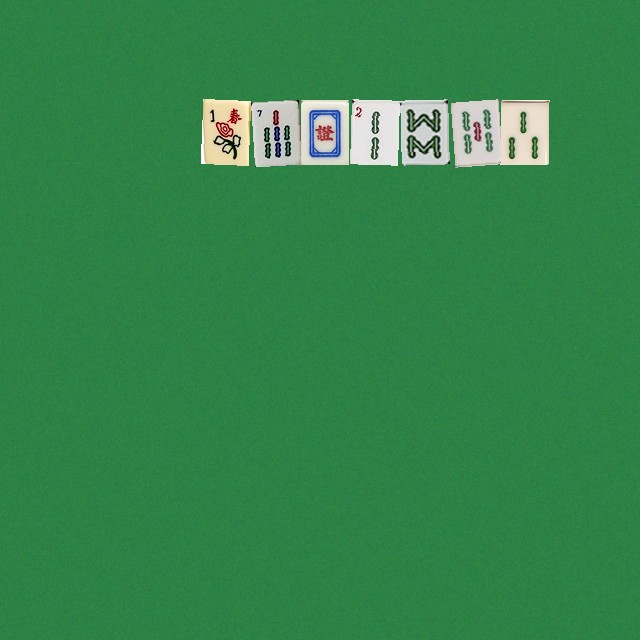tile: (200, 99, 248, 164), (250, 99, 298, 164), (300, 99, 348, 164), (350, 99, 398, 164), (400, 99, 448, 164), (450, 99, 498, 164), (500, 99, 548, 164)
